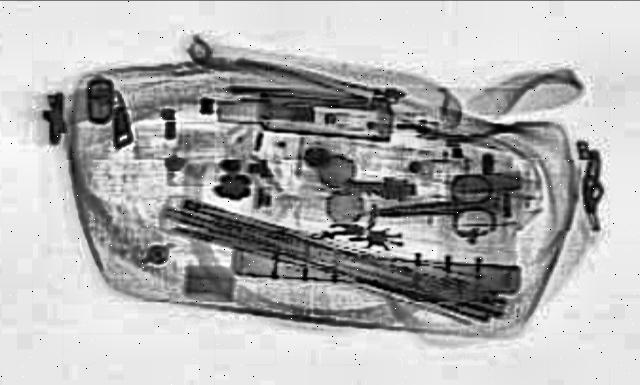Scissors: (364, 168, 508, 243)
